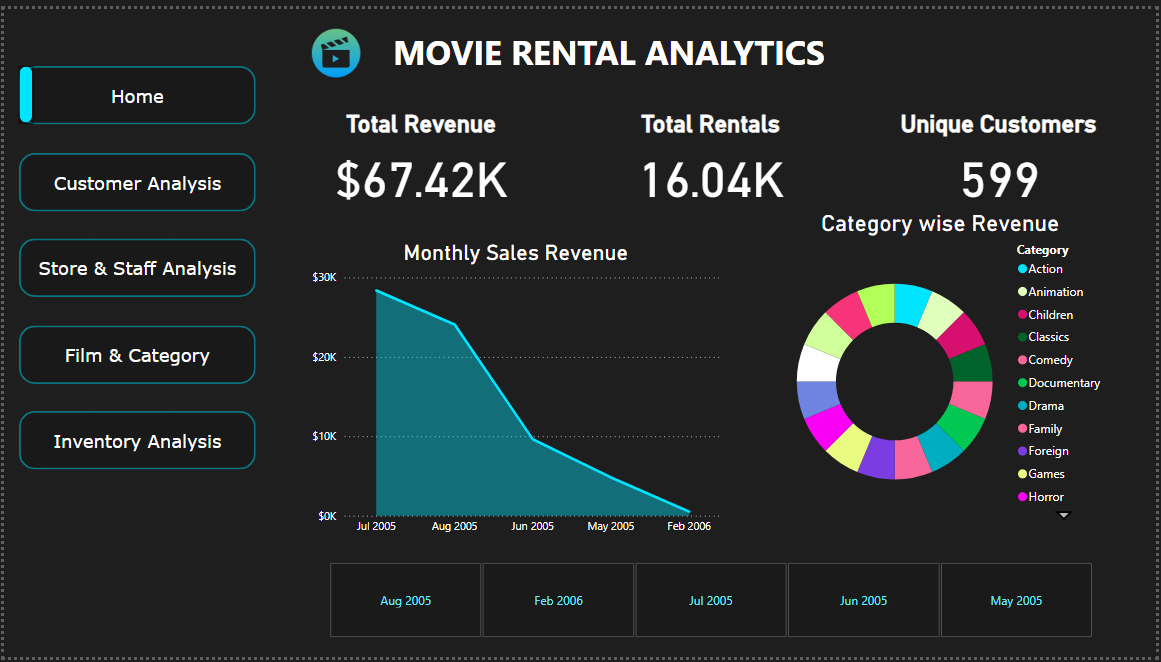

What the dashboard file says about the page in this screenshot:
{"tool":"powerbi","page":{"name":"Home","canvas":[1280,720],"ordinal":0},"visuals":[{"type":"textbox","box":[400,16,544,64],"z":0,"group":"g2"},{"type":"group","id":"g1","title":"Group 1","box":[336,112,896,112],"z":0},{"type":"card","title":"Total Revenue","fields":{"Values":["Sum(payment.amount)"]},"box":[336,112,253.6,112],"z":0,"group":"g1"},{"type":"shape","box":[16,160,263,65],"z":0,"group":"g3"},{"type":"group","id":"g2","title":"Group 2","box":[336,16,608,64],"z":1000},{"type":"image","box":[336,16,64,64],"z":1000,"group":"g2"},{"type":"card","title":"Total Rentals","fields":{"Values":["CountNonNull(rental.rental_id)"]},"box":[657.2,112,253.6,112],"z":1000,"group":"g1"},{"type":"shape","box":[16,256,263,65],"z":1000,"group":"g3"},{"type":"group","id":"g3","title":"Group 3","box":[16,64,263,449],"z":2000},{"type":"card","title":"Unique Customers","fields":{"Values":["Count(payment.customer_id)"]},"box":[978.4,112,253.6,112],"z":2000,"group":"g1"},{"type":"shape","box":[16,352,263,65],"z":2000,"group":"g3"},{"type":"shape","box":[16,64,16,64],"z":3000},{"type":"shape","box":[16,448,263,65],"z":3000,"group":"g3"},{"type":"shape","box":[16,64,263,65],"z":4000,"group":"g3"},{"type":"areaChart","title":"Monthly Sales Revenue","fields":{"Category":["payment.PaymentMonth"],"Y":["Sum(payment.amount)"]},"box":[336,256,464,336],"z":4000},{"type":"donutChart","title":"Category wise Revenue","fields":{"Category":["category.name"],"Y":["Sum(payment.amount)"]},"box":[848,224,384,368],"z":5000},{"type":"slicer","fields":{"Values":["payment.PaymentMonth"]},"box":[336,608,896,96],"z":6000}]}

Visuals, with their boxes in screenshot pixels (x1, y1, x2, y2), scaled from the page's 1280x720 canvas onto the 1161x662 screenshot:
textbox: box(363, 15, 856, 74)
"Group 1" group: box(305, 103, 1117, 206)
"Total Revenue" card: box(305, 103, 535, 206)
shape: box(15, 147, 253, 207)
"Group 2" group: box(305, 15, 856, 74)
image: box(305, 15, 363, 74)
"Total Rentals" card: box(596, 103, 826, 206)
shape: box(15, 235, 253, 295)
"Group 3" group: box(15, 59, 253, 472)
"Unique Customers" card: box(887, 103, 1117, 206)
shape: box(15, 324, 253, 383)
shape: box(15, 59, 29, 118)
shape: box(15, 412, 253, 472)
shape: box(15, 59, 253, 119)
"Monthly Sales Revenue" areaChart: box(305, 235, 726, 544)
"Category wise Revenue" donutChart: box(769, 206, 1117, 544)
slicer - payment.PaymentMonth: box(305, 559, 1117, 647)
